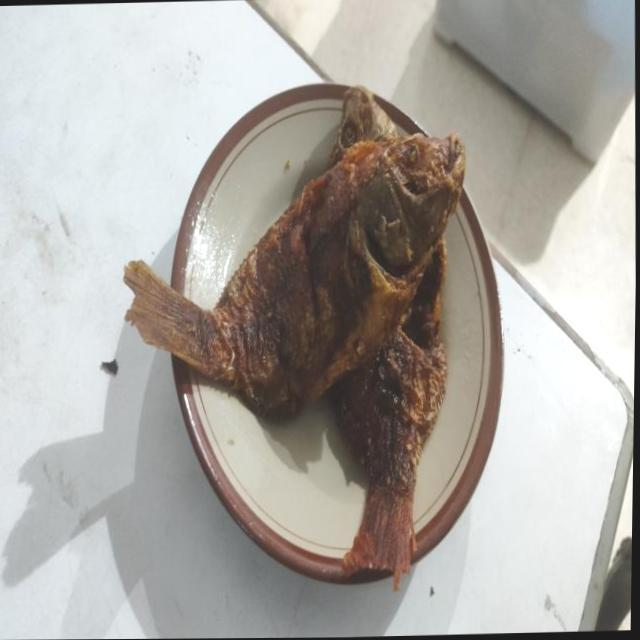ikan_mujair: (124, 133, 464, 414), (312, 84, 446, 576)
